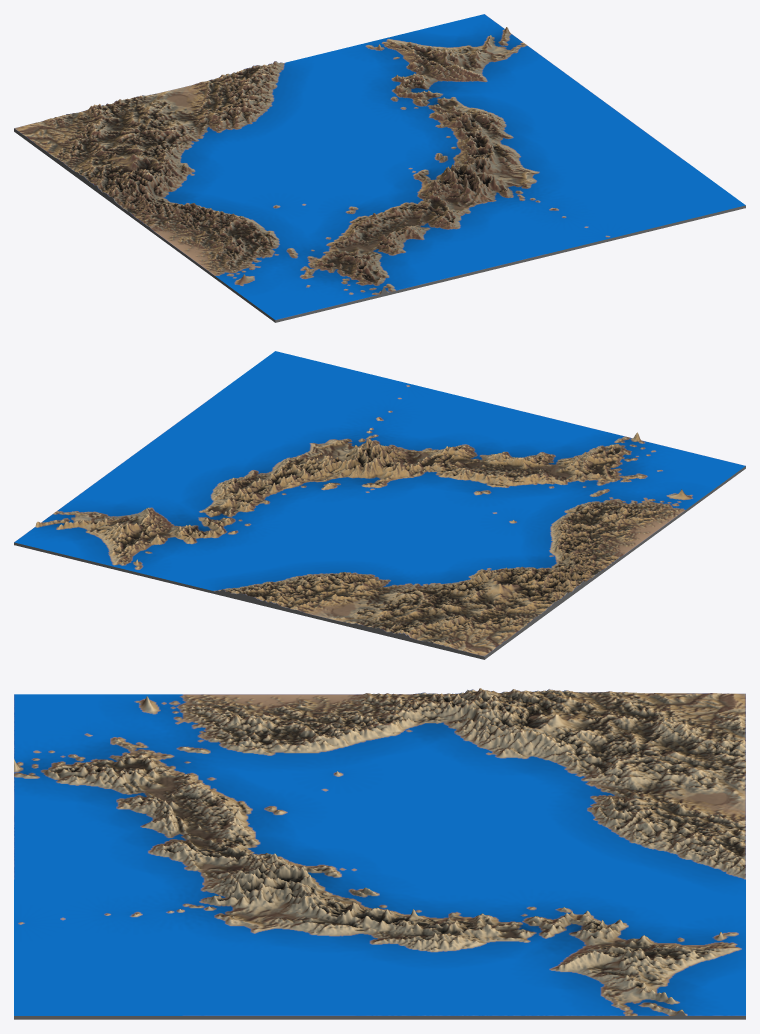
Rendered from japan.glb.
3 views of the same model, one above another, from view 1: azimuth 30°, elevation 25°; view 2: azimuth 150°, elevation 25°; view 3: azimuth 270°, elevation 25° (orthographic). The views are drawn at different scales.
Parts seen in each view (by area): view 1: japan; view 2: japan; view 3: japan.
Boxes of the visible parts, x1=… form: japan: x1=14, y1=14, x2=745, y2=322; japan: x1=14, y1=351, x2=745, y2=659; japan: x1=14, y1=688, x2=745, y2=1019.
Size of the model in its own units: 5.03 by 0.1649 by 4.84.
Materials: 2 (1 with a texture image).
